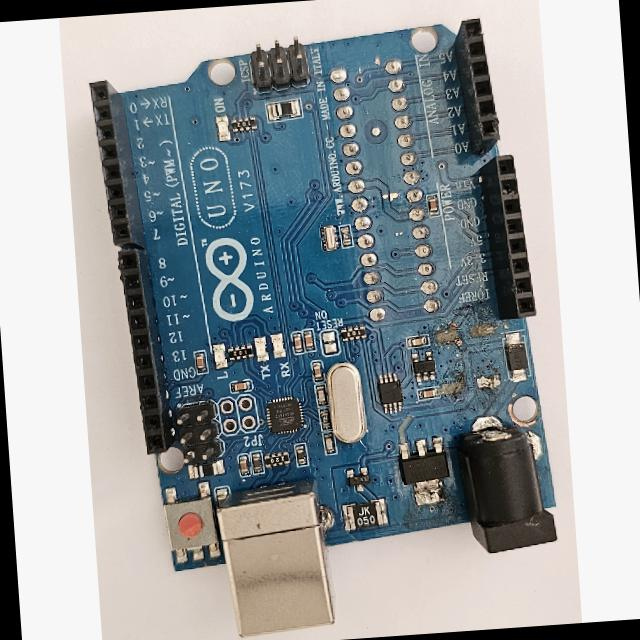missing_atmega: (324, 53, 452, 331)
missing_capacitors: (431, 314, 509, 406)
